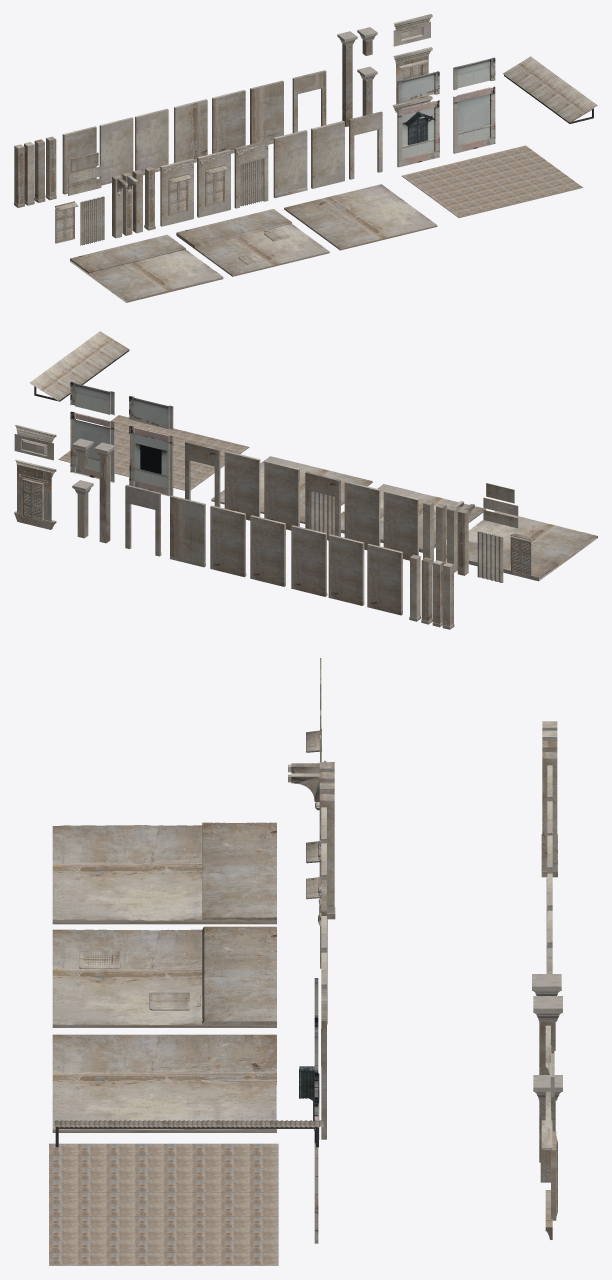
Rendered from ModularKitVietnam.fbx.
The picture shows the model from 3 angles, top to bottom: view 1: azimuth 30°, elevation 25°; view 2: azimuth 150°, elevation 25°; view 3: azimuth 270°, elevation 25°; orthographic projection. The views are drawn at different scales.
Visible parts, largest first — view 1: Object_100_material_0, GroundPiece_concrete street_0_concrete_street_0_concrete_str, GroundPiece.002_concrete street_0_concrete_street_0_concrete, GroundPiece.001_concrete street_0_concrete_street_0_concrete, Object_49_Material.002_0, IMG_6263, IMG_6263.001, WallLower.002_old concrete wall_0_old_concrete_wall_0_old_co, Pillar.002_old concrete wall_0_old_concrete_wall_0_old_concr, Pillar.002_old concrete wall_0.004_old_concrete_wall.004_0_o, Pillar.002_old concrete wall_0.002_old_concrete_wall.002_0_o, Pillar.002_old concrete wall_0.001_old_concrete_wall.003_0_o (+29 smaller); view 2: Object_100_material_0, GroundPiece.002_concrete street_0_concrete_street_0_concrete, Object_49_Material.002_0, IMG_6263, Pillar.002_old concrete wall_0.004_old_concrete_wall.004_0_o, Pillar.002_old concrete wall_0.002_old_concrete_wall.002_0_o, Pillar.002_old concrete wall_0.006_old_concrete_wall.004_0_o, Pillar.002_old concrete wall_0.005_old_concrete_wall.003_0_o, Pillar.002_old concrete wall_0.001_old_concrete_wall.003_0_o, Pillar.002_old concrete wall_0.003_old_concrete_wall.001_0_o, WallLower.002_old concrete wall_0_old_concrete_wall_0_old_co, WallLower_old concrete wall_0_old_concrete_wall_0_old_concre (+28 smaller); view 3: Object_100_material_0, GroundPiece_concrete street_0_concrete_street_0_concrete_str, GroundPiece.002_concrete street_0_concrete_street_0_concrete, GroundPiece.001_concrete street_0_concrete_street_0_concrete, SidewalkPiece.002_side walk_0_side_walk_0, SidewalkPiece.001_side walk_0_side_walk_0, Object_49_Material.002_0, Pillar.001_old concrete wall_0.001_old_concrete_wall.005_0_o, Object_36.002_Material.001_0, Object_34.002_Material.001_0, Pillar.001_old concrete wall_0_old_concrete_wall_0_old_concr, Object_34.003_Material.001_0 (+2 smaller).
Part boxes in pixels (box(x1,y1,x2,y2)): Object_100_material_0: box(402, 145, 583, 217); GroundPiece_concrete street_0_concrete_street_0_concrete_str: box(284, 184, 437, 250); GroundPiece.002_concrete street_0_concrete_street_0_concrete: box(70, 249, 223, 302); GroundPiece.001_concrete street_0_concrete_street_0_concrete: box(176, 224, 329, 276); Object_49_Material.002_0: box(503, 56, 597, 123); IMG_6263: box(397, 100, 439, 167); IMG_6263.001: box(453, 86, 495, 153); WallLower.002_old concrete wall_0_old_concrete_wall_0_old_co: box(311, 121, 344, 188); Pillar.002_old concrete wall_0_old_concrete_wall_0_old_concr: box(273, 130, 307, 194); Pillar.002_old concrete wall_0.004_old_concrete_wall.004_0_o: box(99, 117, 133, 182); Pillar.002_old concrete wall_0.002_old_concrete_wall.002_0_o: box(212, 90, 245, 153); Pillar.002_old concrete wall_0.001_old_concrete_wall.003_0_o: box(174, 99, 207, 162); Object_100_material_0: box(58, 415, 249, 490); GroundPiece.002_concrete street_0_concrete_street_0_concrete: box(446, 511, 597, 581); Object_49_Material.002_0: box(29, 331, 129, 401); IMG_6263: box(129, 426, 173, 496); Pillar.002_old concrete wall_0.004_old_concrete_wall.004_0_o: box(328, 534, 364, 605); Pillar.002_old concrete wall_0.002_old_concrete_wall.002_0_o: box(210, 505, 245, 577); Pillar.002_old concrete wall_0.006_old_concrete_wall.004_0_o: box(367, 544, 402, 615); Pillar.002_old concrete wall_0.005_old_concrete_wall.003_0_o: box(291, 525, 326, 596); Pillar.002_old concrete wall_0.001_old_concrete_wall.003_0_o: box(250, 515, 285, 586); Pillar.002_old concrete wall_0.003_old_concrete_wall.001_0_o: box(170, 495, 205, 567); WallLower.002_old concrete wall_0_old_concrete_wall_0_old_co: box(224, 451, 260, 520); WallLower_old concrete wall_0_old_concrete_wall_0_old_concre: box(344, 481, 380, 549); Object_100_material_0: box(49, 1143, 278, 1265); GroundPiece_concrete street_0_concrete_street_0_concrete_str: box(52, 1034, 276, 1132); GroundPiece.002_concrete street_0_concrete_street_0_concrete: box(52, 825, 276, 924); GroundPiece.001_concrete street_0_concrete_street_0_concrete: box(52, 929, 276, 1027); SidewalkPiece.002_side walk_0_side_walk_0: box(202, 822, 276, 917); SidewalkPiece.001_side walk_0_side_walk_0: box(204, 926, 276, 1021); Object_49_Material.002_0: box(54, 1120, 323, 1147); Pillar.001_old concrete wall_0.001_old_concrete_wall.005_0_o: box(542, 752, 557, 870); Object_36.002_Material.001_0: box(541, 1091, 556, 1239); Object_34.002_Material.001_0: box(533, 1075, 562, 1182); Pillar.001_old concrete wall_0_old_concrete_wall_0_old_concr: box(319, 794, 334, 913); Object_34.003_Material.001_0: box(533, 996, 562, 1050).
Bounding box in the file's own units: 5877 × 1097 × 2747.
Materials: 21 (20 with a texture image).
